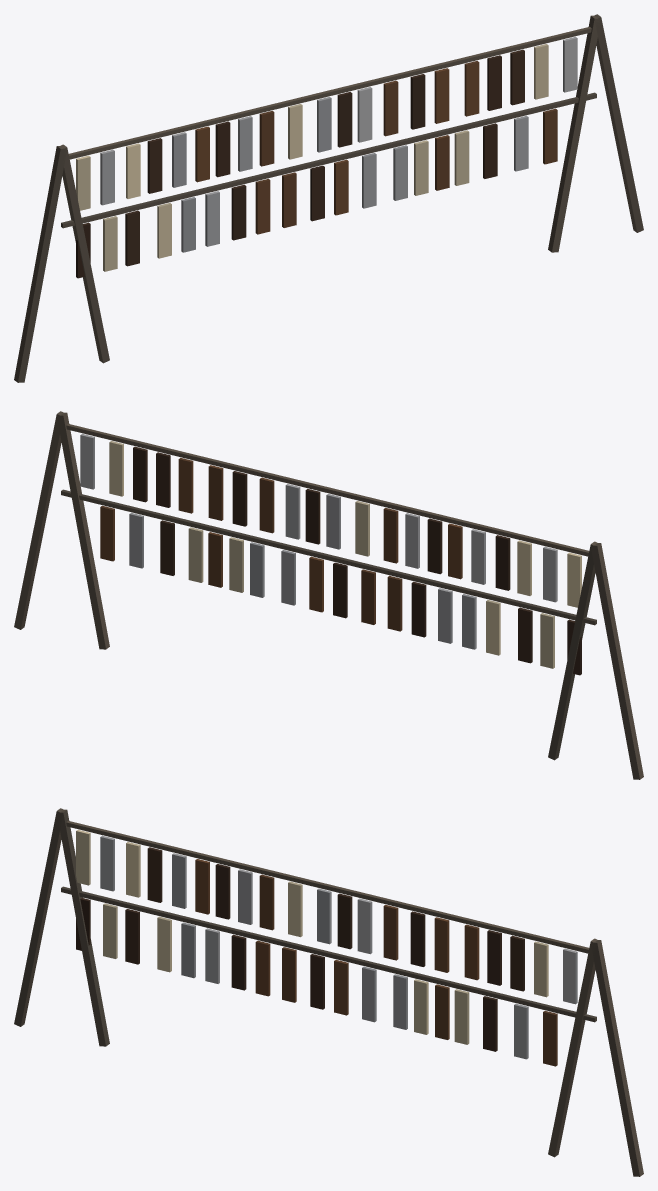
The model's file is walk_prop_fish_rack.glb.
3 renders of one model, top to bottom at view 1: azimuth 30°, elevation 25°; view 2: azimuth 150°, elevation 25°; view 3: azimuth 330°, elevation 25°, orthographic.
Visible parts, largest first — view 1: walk_prop_fish_rack; view 2: walk_prop_fish_rack; view 3: walk_prop_fish_rack.
Boxes of the visible parts, box(x1,y1,x2,y2) form: walk_prop_fish_rack: box(14, 14, 643, 382); walk_prop_fish_rack: box(14, 411, 643, 779); walk_prop_fish_rack: box(14, 808, 643, 1176).
Size of what is drawn, in the model's own units: 5.86 by 2.01 by 0.0636.
2 materials, 2 textured.
